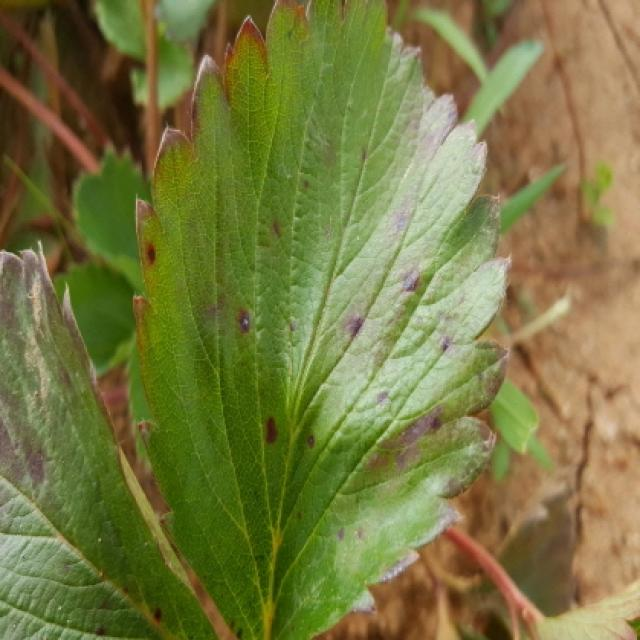Leaf Spot: (131, 0, 514, 638), (2, 239, 220, 638)
